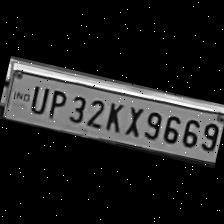2: (82, 92, 108, 130)
3: (62, 90, 88, 126)
6: (158, 110, 183, 146), (177, 114, 202, 150)
9: (195, 116, 221, 154), (137, 106, 164, 142)
K: (100, 96, 127, 134)
P: (42, 84, 68, 122)
U: (23, 80, 50, 116)
X: (119, 100, 146, 139)
